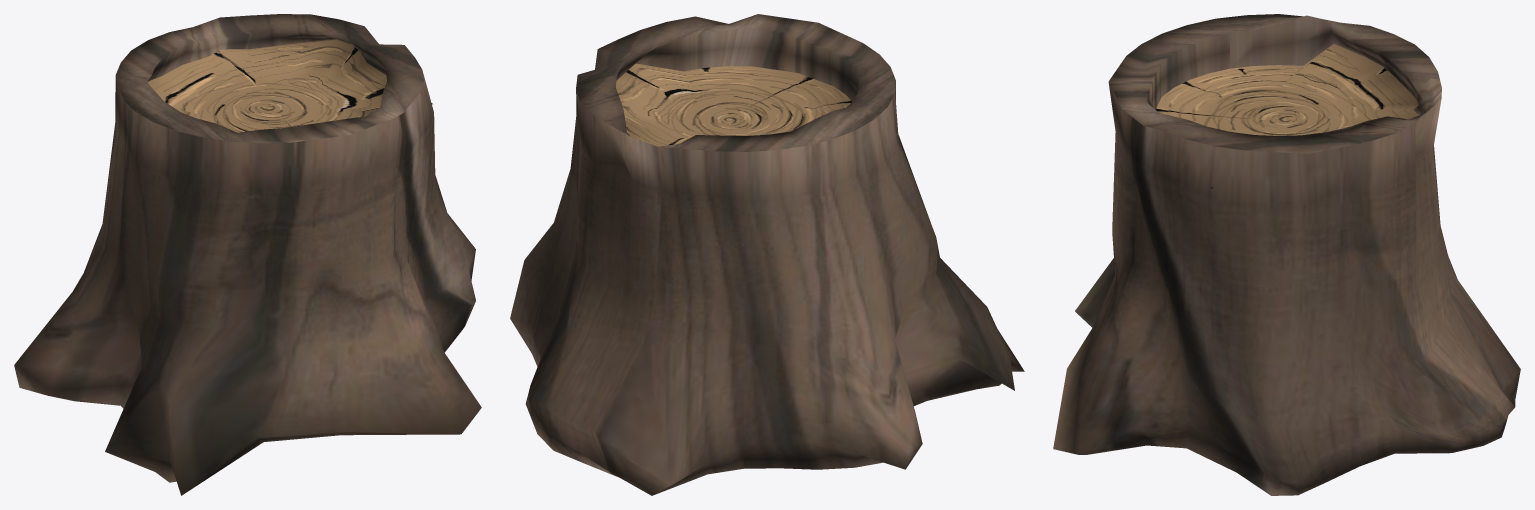
Rendered from stump.fbx.
The picture shows the model from 3 angles, left to right: view 1: azimuth 30°, elevation 25°; view 2: azimuth 150°, elevation 25°; view 3: azimuth 270°, elevation 25°; orthographic projection. The views are drawn at different scales.
Visible parts, largest first — view 1: Stump; view 2: Stump; view 3: Stump.
Part boxes in pixels (x1,y1,x2,y2): Stump: (14,14,481,495); Stump: (510,14,1024,495); Stump: (1053,14,1520,495).
Bounding box in the file's own units: 89.34 × 65.24 × 79.24.
